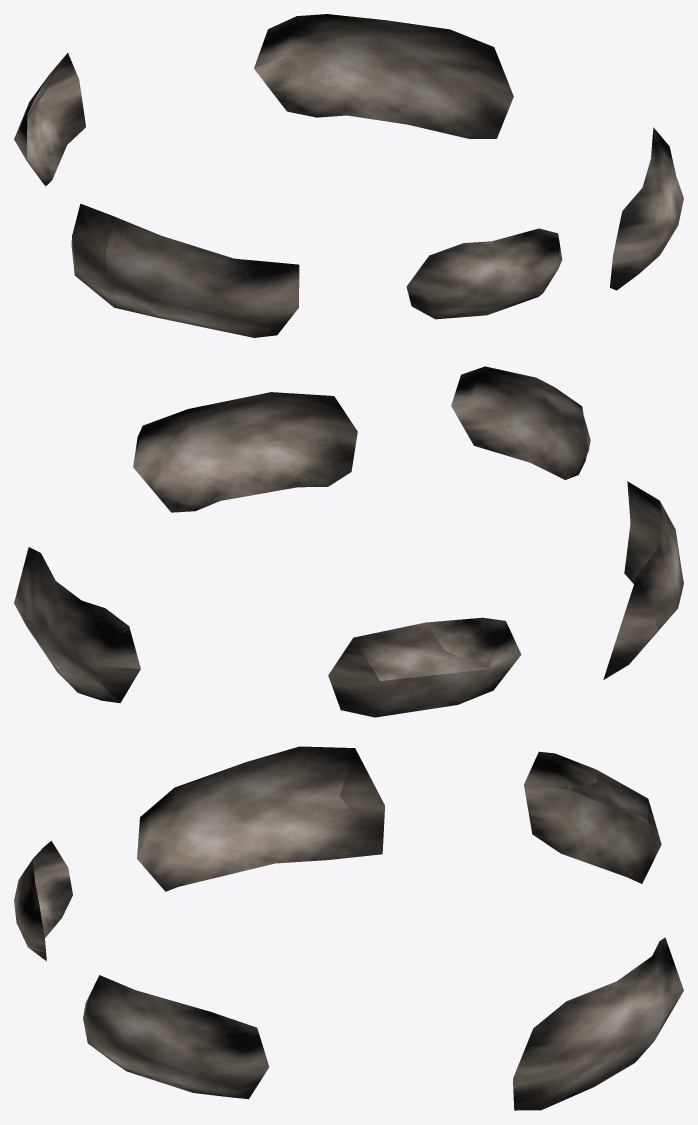
The model's file is Cyclone_Ribbon_1.FBX.
3 views of the same model, one above another, from view 1: azimuth 30°, elevation 25°; view 2: azimuth 150°, elevation 25°; view 3: azimuth 270°, elevation 25° (orthographic). The views are drawn at different scales.
Visible parts, largest first — view 1: Ribbon_01; view 2: Ribbon_01; view 3: Ribbon_01.
Boxes of the visible parts, left/top/right/bottom form: Ribbon_01: left=14, top=14, right=683, bottom=337; Ribbon_01: left=14, top=366, right=683, bottom=717; Ribbon_01: left=14, top=746, right=683, bottom=1110.
Size of the model in its own units: 64.45 by 15.76 by 66.52.
